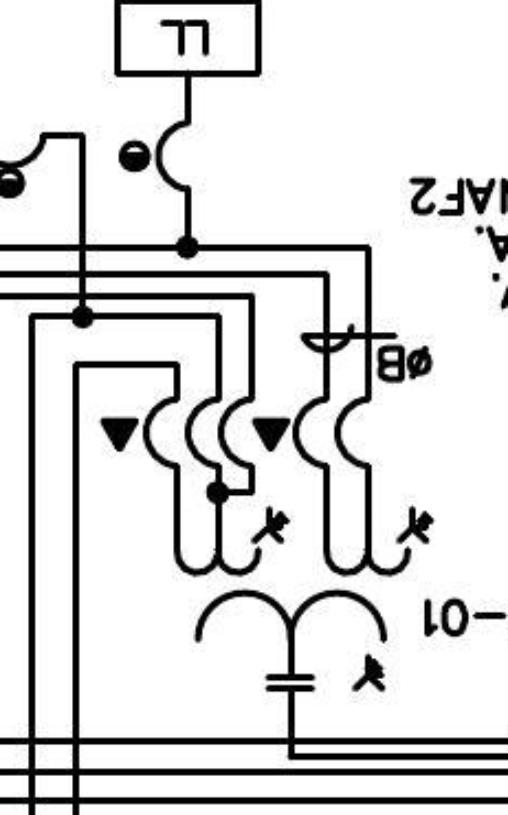115_cvt_3p: (172, 504, 436, 693)
